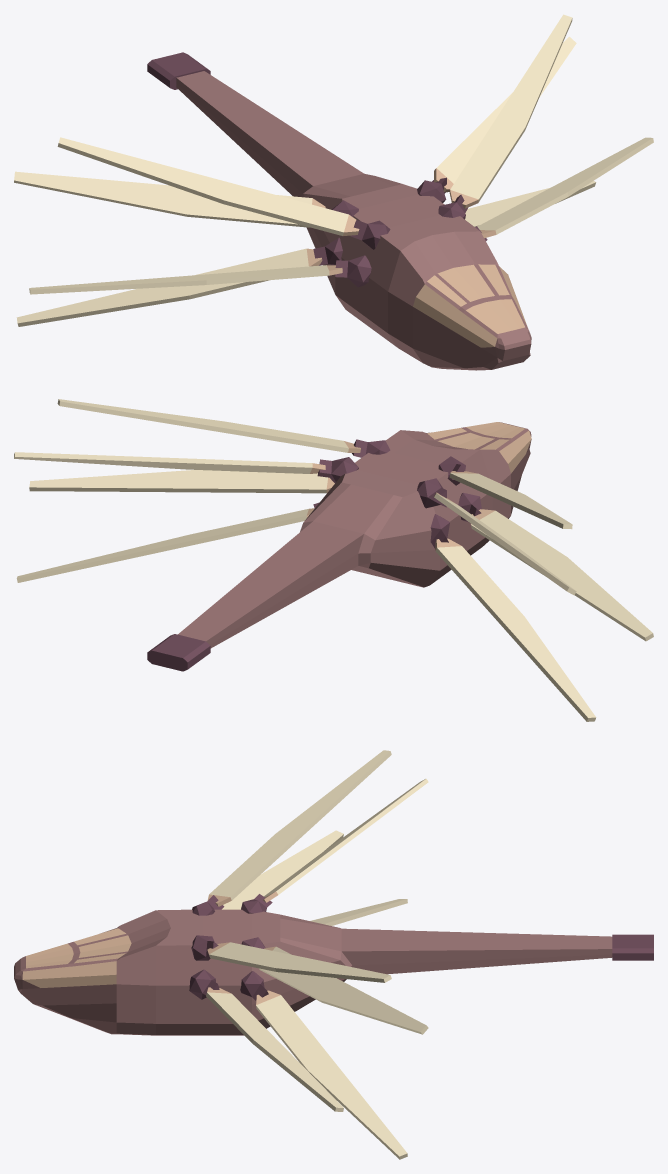
The model's file is thopter with animation.fbx.
3 views of the same model, one above another, from view 1: azimuth 30°, elevation 25°; view 2: azimuth 150°, elevation 25°; view 3: azimuth 270°, elevation 25° (orthographic). The views are drawn at different scales.
Visible parts, largest first — view 1: Cube, Cube.001, Cube.002, Cube.005, Cube.006, Icosphere, Icosphere.004, Icosphere.001, Icosphere.005; view 2: Cube, Cube.005, Cube.006, Cube.001, Cube.002, Icosphere.001, Icosphere, Icosphere.005; view 3: Cube, Cube.001, Cube.006, Cube.005, Cube.002, Icosphere.
Boxes of the visible parts, <box> form: Cube: <box>147,52,531,370</box>; Cube.001: <box>57,14,572,235</box>; Cube.002: <box>14,36,576,227</box>; Cube.005: <box>29,137,653,294</box>; Cube.006: <box>16,181,596,326</box>; Icosphere: <box>350,194,467,249</box>; Icosphere.004: <box>335,226,487,287</box>; Icosphere.001: <box>331,177,446,217</box>; Icosphere.005: <box>313,237,342,265</box>; Cube: <box>147,422,531,671</box>; Cube.005: <box>29,470,653,641</box>; Cube.006: <box>16,508,596,721</box>; Cube.001: <box>57,399,572,529</box>; Cube.002: <box>14,452,576,595</box>; Icosphere.001: <box>317,457,446,508</box>; Icosphere: <box>352,439,465,485</box>; Icosphere.005: <box>313,502,449,548</box>; Cube: <box>14,909,653,1035</box>; Cube.001: <box>207,750,391,982</box>; Cube.006: <box>256,899,407,1159</box>; Cube.005: <box>206,830,343,1111</box>; Cube.002: <box>259,778,428,1034</box>; Icosphere: <box>191,895,224,960</box>.
Bounding box in the file's own units: 2370 × 671 × 2309.
